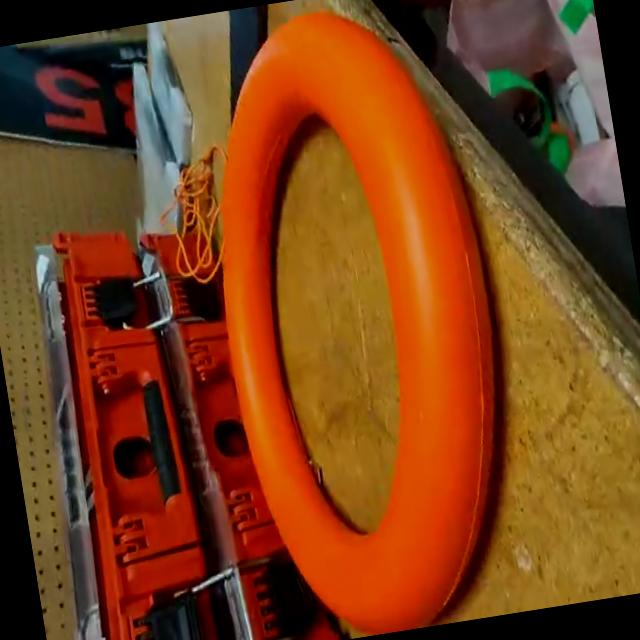note: (174, 0, 544, 640)
